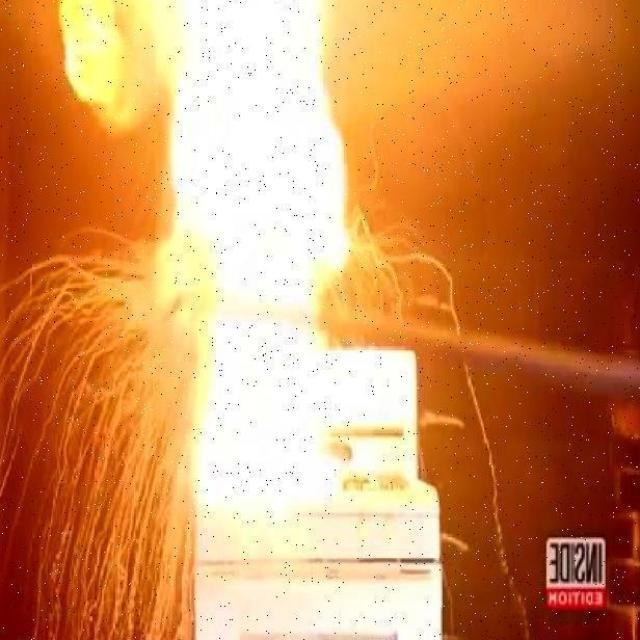smoke: (154, 0, 352, 315)
